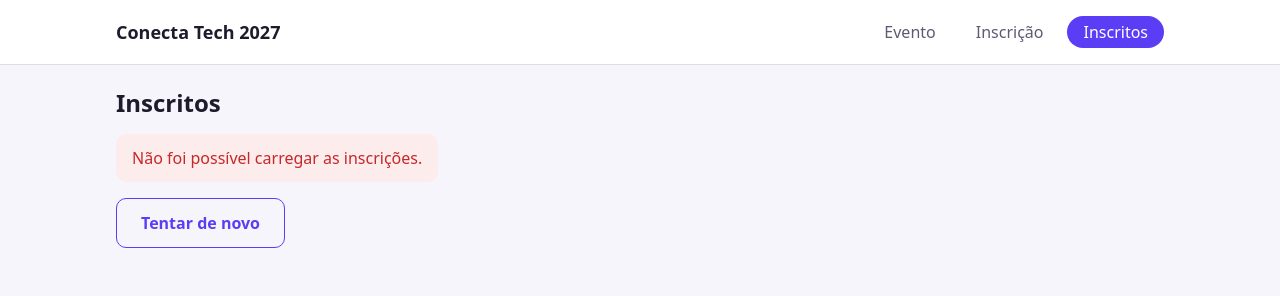
tela de inscritos › REQ-FE-24: falha ao carregar mostra o erro e "Tentar de novo" busca a lista outra vez
Expected: the message reads "Não foi possível carregar as inscrições.", [132, 147, 422, 169]
Click the button "Tentar de novo": (200, 223) [116, 198, 285, 248]
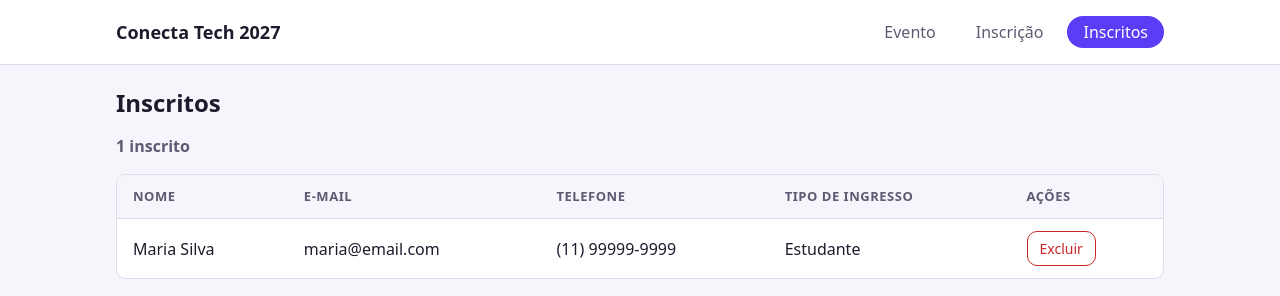
Expected: the message "Não foi possível carregar as inscrições." is gone
